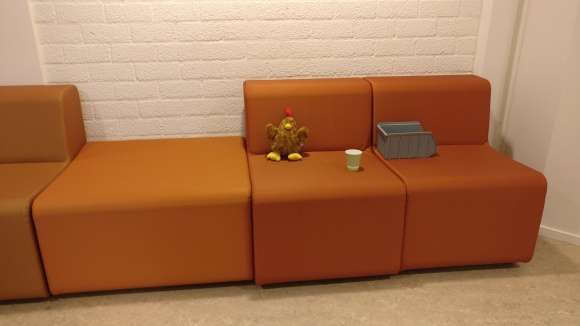chicken: (264, 105, 310, 162)
cup: (343, 147, 361, 170)
tray: (375, 119, 438, 160)
